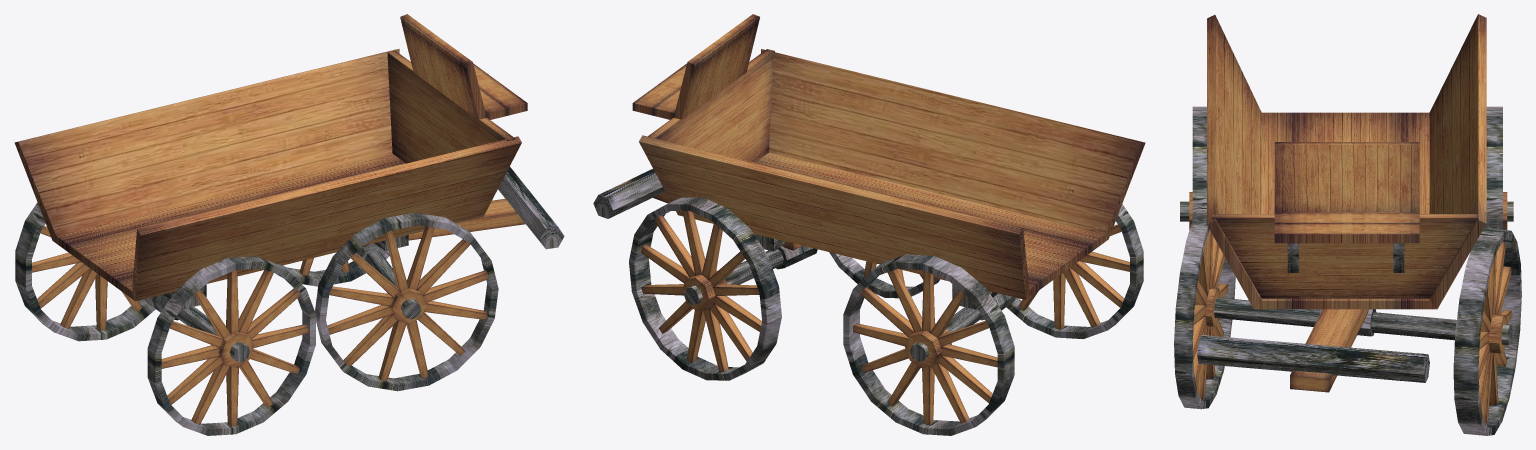
File: wagon.obj
3 renders of one model, left to right at view 1: azimuth 30°, elevation 25°; view 2: azimuth 150°, elevation 25°; view 3: azimuth 270°, elevation 25°, orthographic. The views are drawn at different scales.
Visible parts, largest first — view 1: Box529, Box530, Tube50, Tube52, Box525, Tube49, Cylinder20, Box526, Cylinder279, Cylinder18, Tube51, Box7288 (+27 smaller); view 2: Box529, Tube51, Tube49, Box530, Box525, Tube50, Cylinder20, Tube52, Cylinder18, Cylinder279, Cylinder277, Box7276 (+22 smaller); view 3: Box529, Box525, Box530, Tube51, Cylinder20, Tube52, Cylinder18, Box526, Tube49, Tube50, Cylinder281, Box7296 (+8 smaller).
Part boxes in pixels (x1,y1,x2,y2): Box529: (14,49,521,301); Box530: (387,50,515,163); Tube50: (147,256,315,435); Tube52: (315,212,498,391); Box525: (400,14,527,119); Tube49: (15,202,155,341); Cylinder20: (498,166,564,249); Box526: (362,198,525,246); Cylinder279: (176,307,250,362); Cylinder18: (365,250,421,319); Tube51: (275,250,389,286); Box7288: (238,269,273,333); Box529: (639,49,1145,299); Tube51: (629,197,781,380); Tube49: (843,254,1014,435); Box530: (648,49,774,162); Box525: (632,14,759,119); Tube50: (1006,204,1143,339); Cylinder20: (593,169,664,218); Tube52: (829,252,939,298); Cylinder18: (684,249,783,304); Cylinder279: (910,307,982,361); Cylinder277: (905,323,951,367); Box7276: (887,269,922,332); Box529: (1207,14,1486,309); Box525: (1274,142,1419,243); Box530: (1211,214,1477,298); Tube51: (1453,228,1521,435); Cylinder20: (1197,335,1429,382); Tube52: (1174,202,1235,409); Cylinder18: (1214,297,1511,345); Box526: (1290,309,1368,392); Tube49: (1483,106,1502,229); Tube50: (1192,106,1206,219); Cylinder281: (1488,314,1507,353); Box7296: (1495,241,1505,314).
Size of the model in its own units: 19.86 by 11.62 by 11.89.
2 materials, 2 textured.
